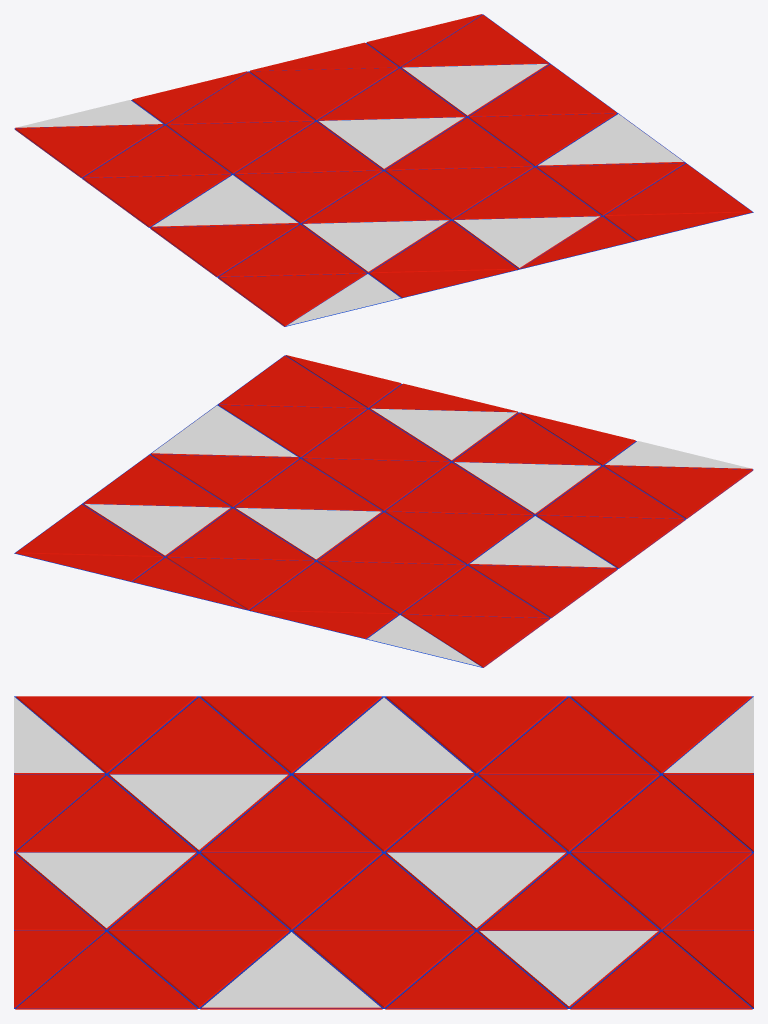
File: Triangular_floor.fbx
The picture shows the model from 3 angles, top to bottom: view 1: azimuth 30°, elevation 25°; view 2: azimuth 150°, elevation 25°; view 3: azimuth 270°, elevation 25°; orthographic projection. The views are drawn at different scales.
Parts seen in each view (by area): view 1: Plane.001; view 2: Plane.001; view 3: Plane.001.
Part boxes in pixels (left/top/right/bottom): Plane.001: left=14, top=14, right=753, bottom=326; Plane.001: left=14, top=355, right=753, bottom=667; Plane.001: left=14, top=696, right=753, bottom=1009.
Size of the model in its own units: 1000 by 2 by 1000.
